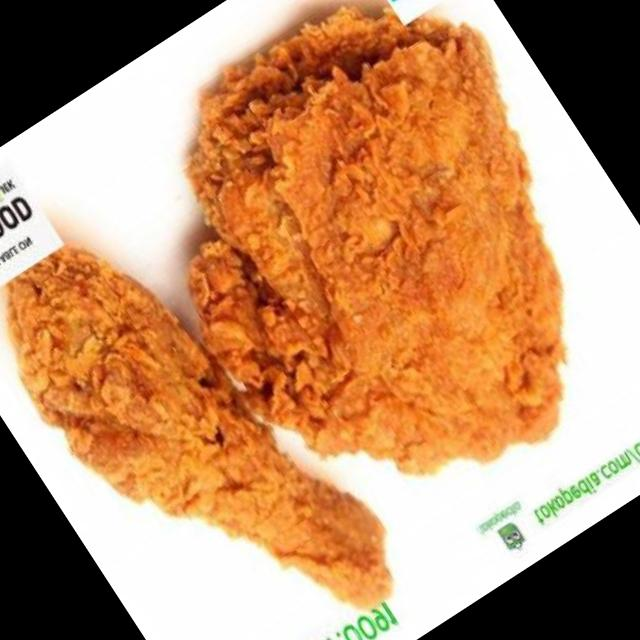Fried Chicken: (184, 2, 565, 476), (3, 243, 393, 610)
